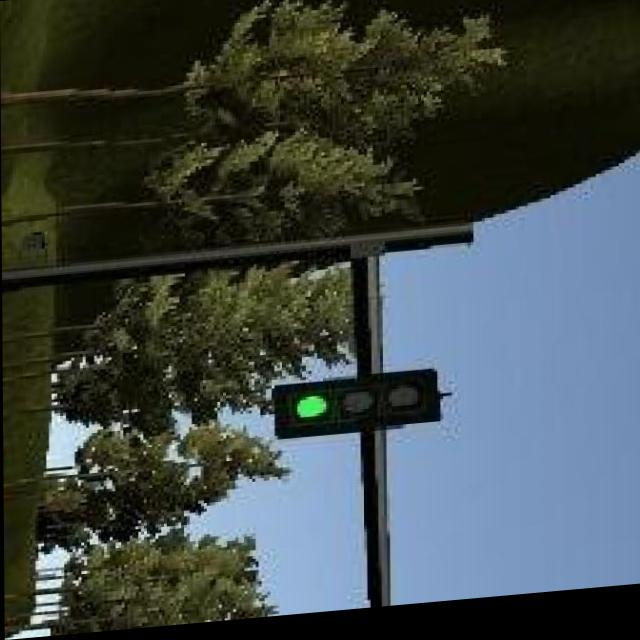green light: (273, 375, 440, 441)
